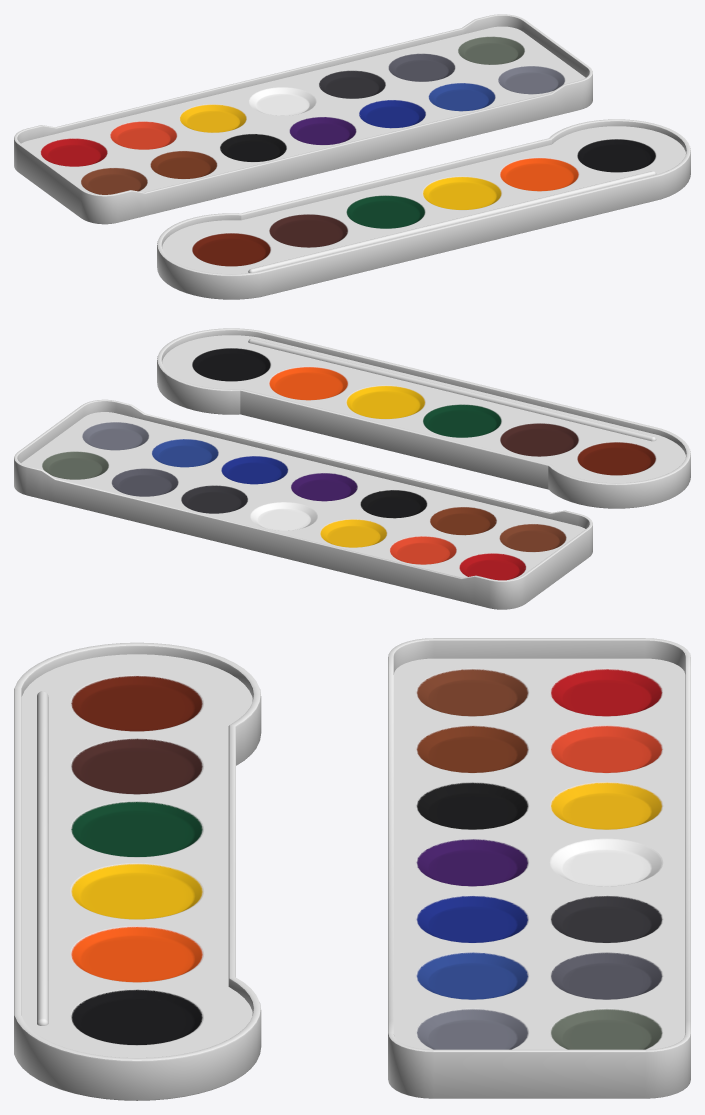
Rendered from cgt_fmcg_art_draw_supplies_015.fbx.
3 views of the same model, one above another, from view 1: azimuth 30°, elevation 25°; view 2: azimuth 150°, elevation 25°; view 3: azimuth 270°, elevation 25° (orthographic). The views are drawn at different scales.
Visible parts, largest first — view 1: palette_001_mesh, palette_002_mesh; view 2: palette_001_mesh, palette_002_mesh; view 3: palette_001_mesh, palette_002_mesh.
Part boxes in pixels (left/top/right/bottom): palette_001_mesh: left=14, top=14, right=592, bottom=224; palette_002_mesh: left=157, top=119, right=690, bottom=299; palette_001_mesh: left=14, top=399, right=592, bottom=609; palette_002_mesh: left=157, top=328, right=690, bottom=508; palette_001_mesh: left=388, top=638, right=690, bottom=1098; palette_002_mesh: left=14, top=642, right=261, bottom=1100.
Size of the model in its own units: 17.81 by 12.17 by 0.9409.
